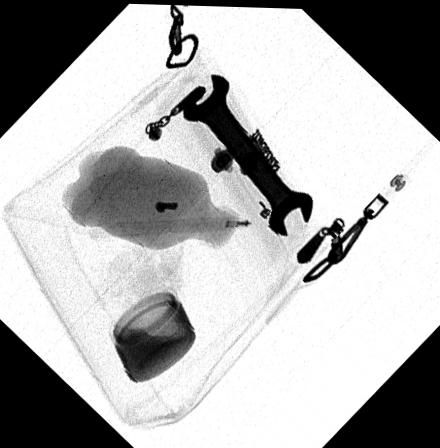Wrench: (184, 68, 312, 233)
